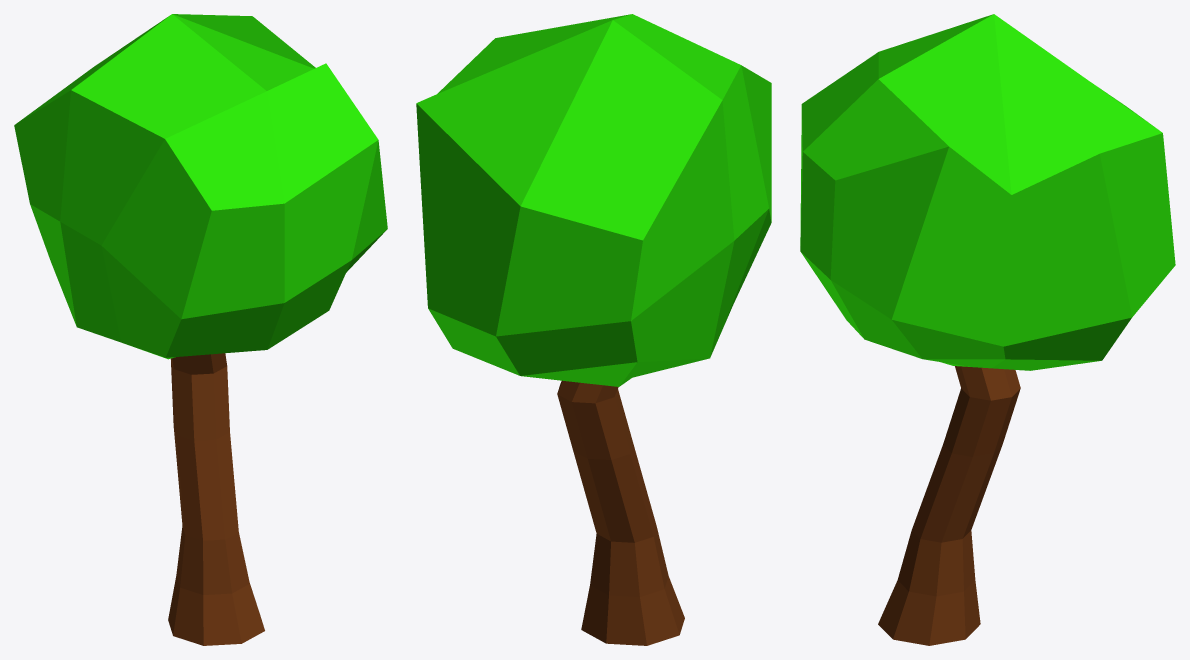
The model's file is Tree2.fbx.
3 views of the same model, side by side, from view 1: azimuth 30°, elevation 25°; view 2: azimuth 150°, elevation 25°; view 3: azimuth 270°, elevation 25° (orthographic). The views are drawn at different scales.
Visible parts, largest first — view 1: Tree2; view 2: Tree2; view 3: Tree2.
Part boxes in pixels (x1=…): Tree2: x1=14, y1=14, x2=387, y2=645; Tree2: x1=416, y1=14, x2=771, y2=645; Tree2: x1=800, y1=14, x2=1175, y2=645.
Bounding box in the file's own units: 150 × 301 × 169.
